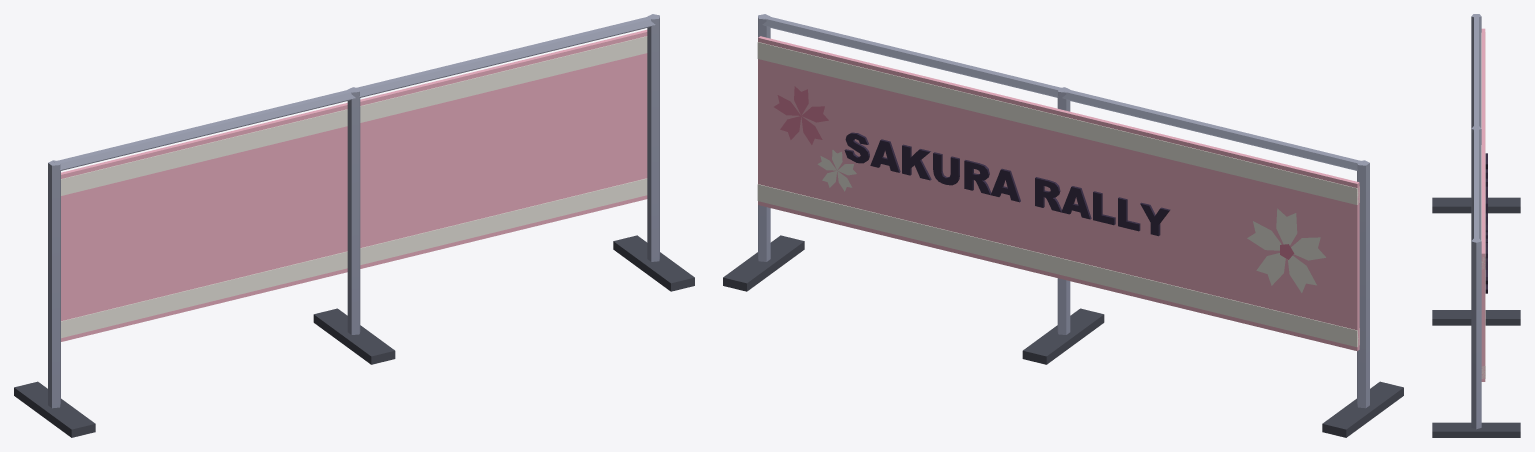
The model's file is banner_fence.glb.
The picture shows the model from 3 angles, left to right: view 1: azimuth 30°, elevation 25°; view 2: azimuth 150°, elevation 25°; view 3: azimuth 270°, elevation 25°; orthographic projection. The views are drawn at different scales.
Visible parts, largest first — view 1: banner_fence; view 2: banner_fence; view 3: banner_fence.
Boxes of the visible parts, x1,y1,x2,y2 form: banner_fence: (14,14,694,437); banner_fence: (723,14,1403,437); banner_fence: (1432,14,1520,437).
Bounding box in the file's own units: 3.12 × 1.2 × 0.5.
